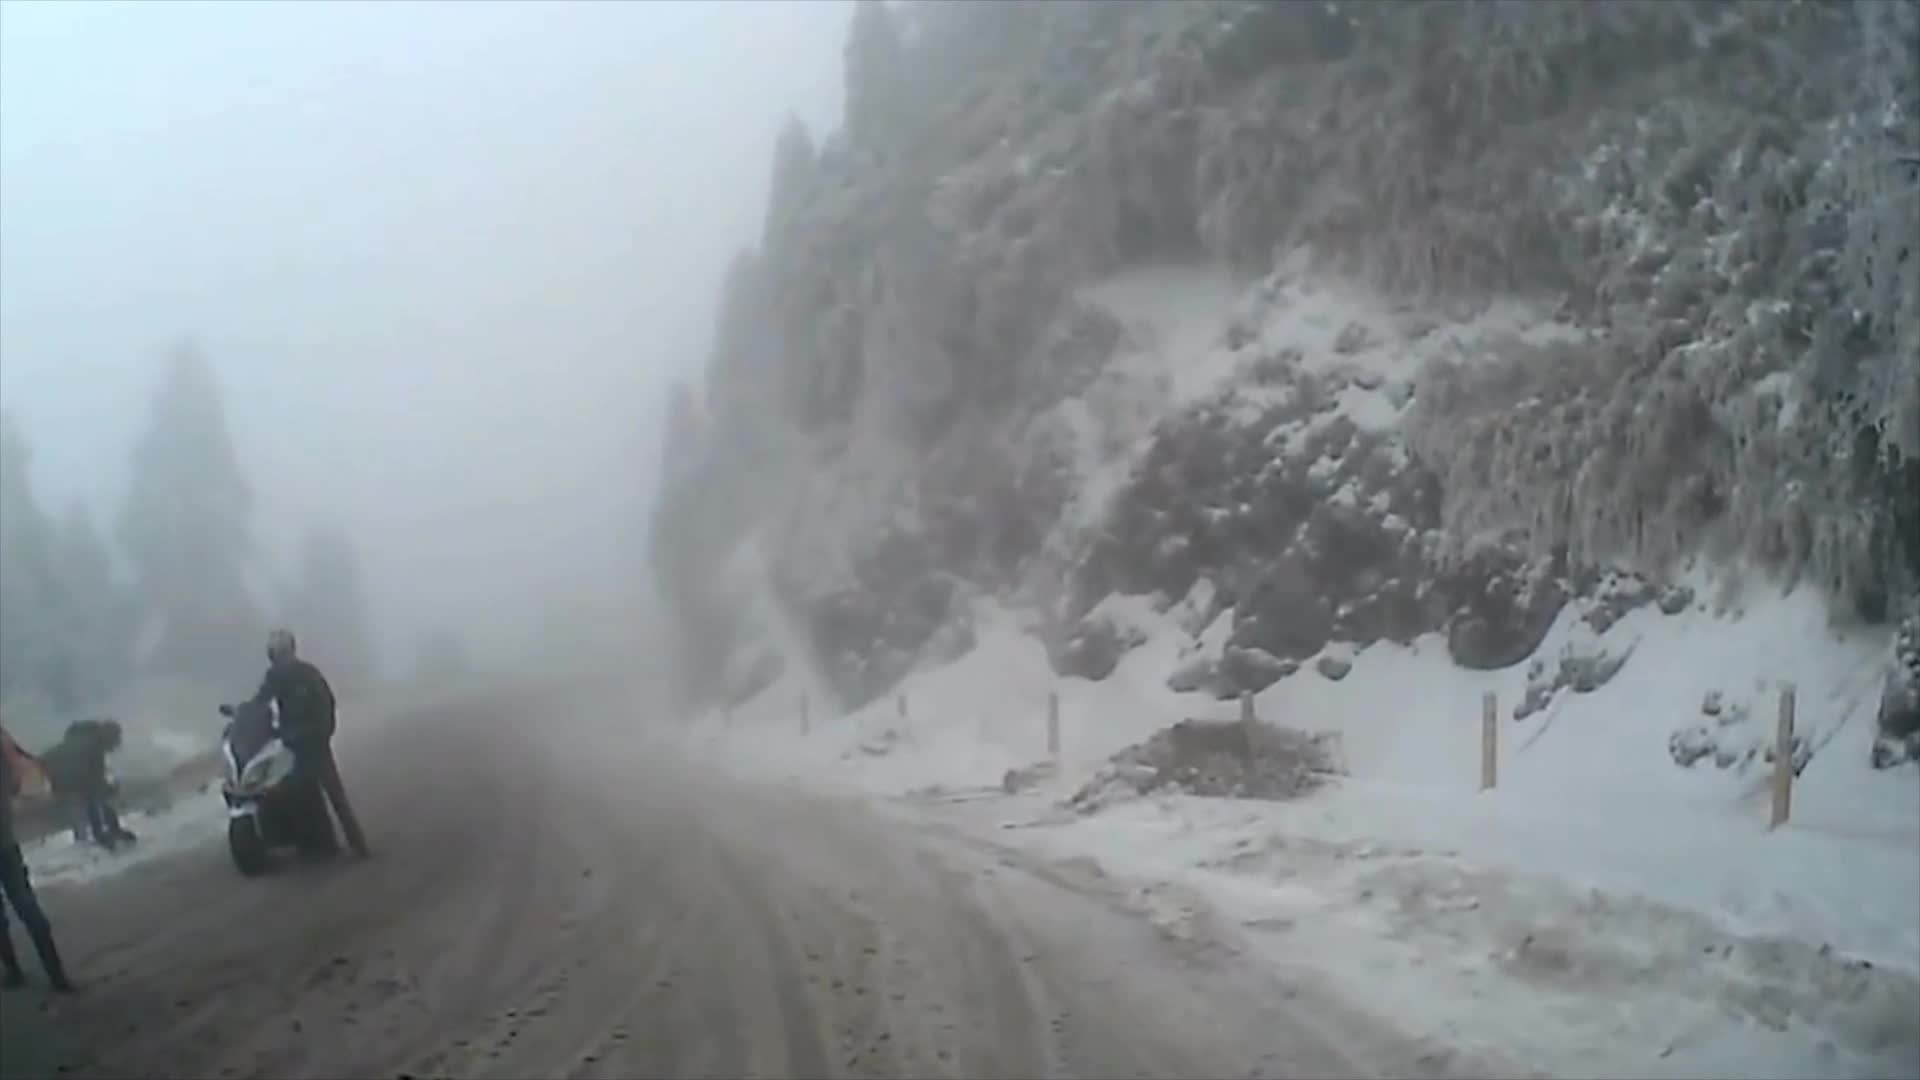pedestrian: (234, 630, 378, 875), (41, 722, 136, 855)
